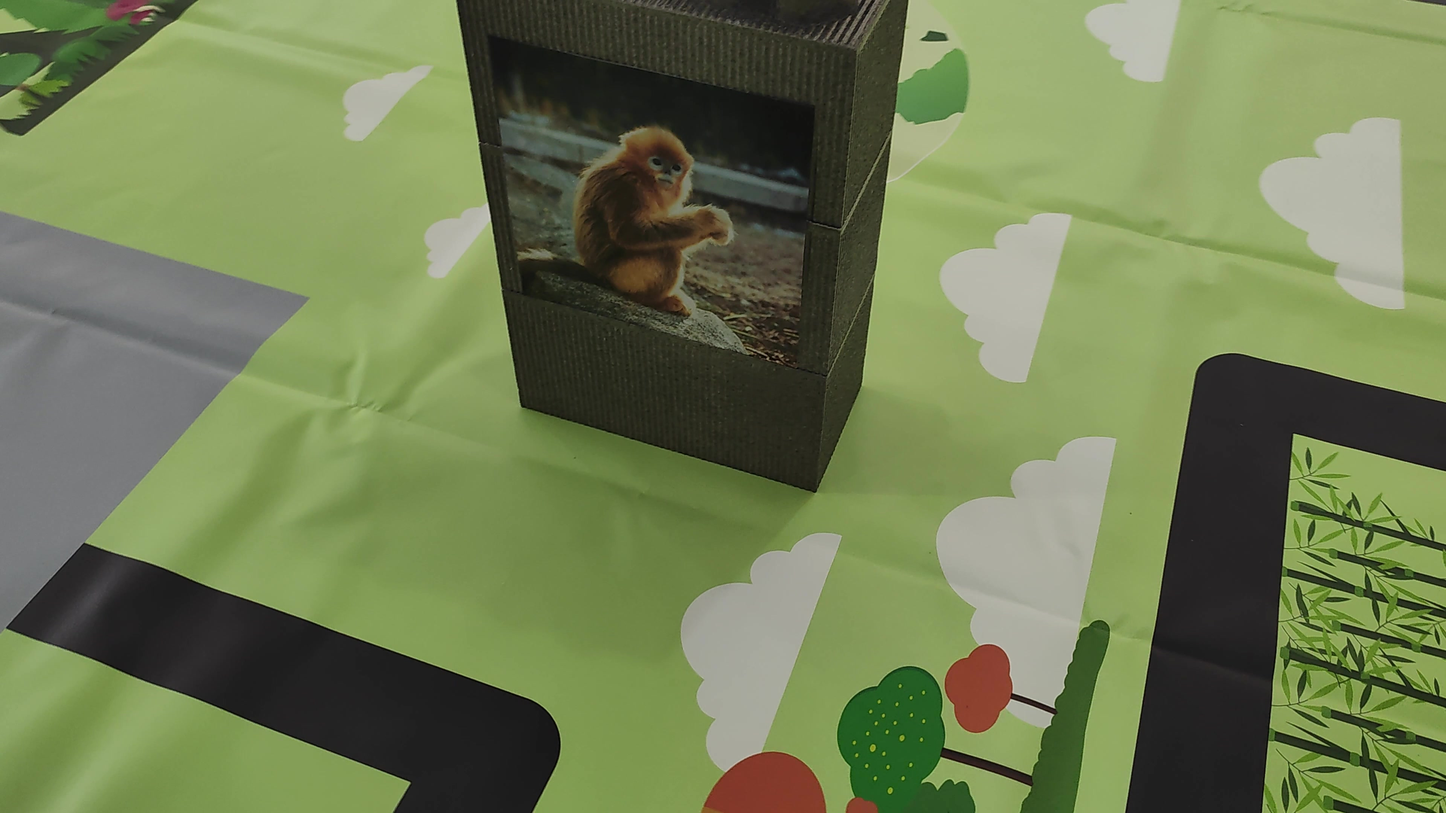monkey: (561, 114, 763, 328)
